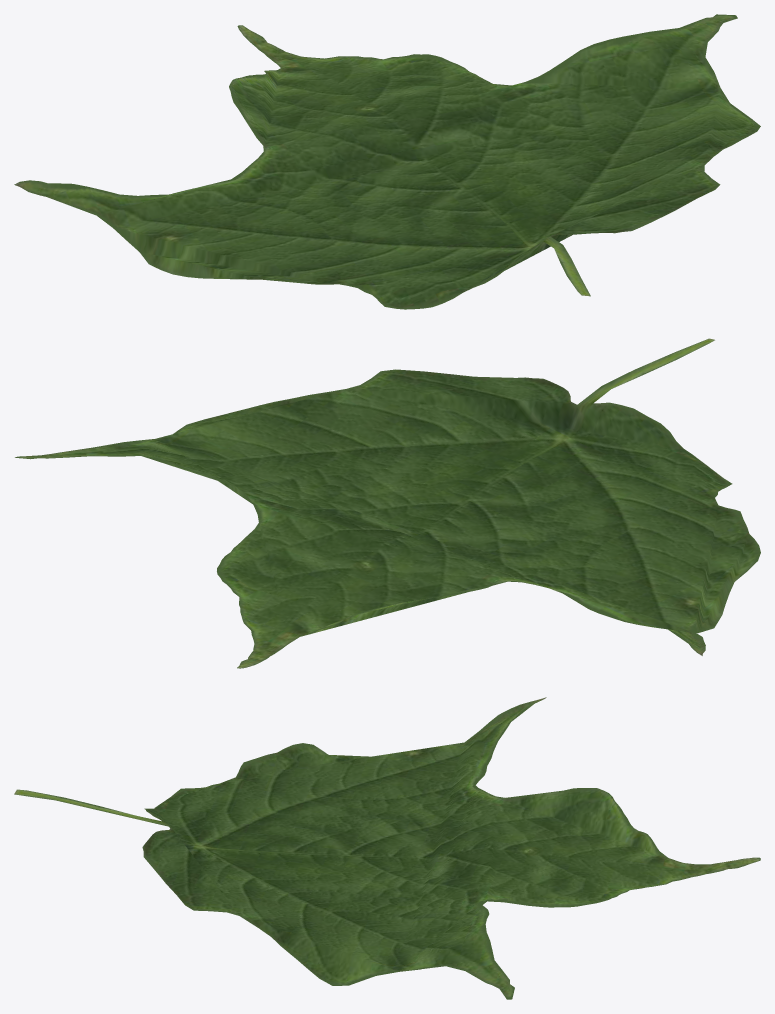
File: Leaf.fbx
3 renders of one model, top to bottom at view 1: azimuth 30°, elevation 25°; view 2: azimuth 150°, elevation 25°; view 3: azimuth 270°, elevation 25°, orthographic. The views are drawn at different scales.
Visible parts, largest first — view 1: level; view 2: level; view 3: level.
Boxes of the visible parts, left/top/right/bottom form: level: left=14, top=14, right=760, bottom=309; level: left=15, top=338, right=760, bottom=668; level: left=14, top=697, right=760, bottom=999.
Bounding box in the file's own units: 23.63 × 23.82 × 2.45.
1 material, 1 textured.
